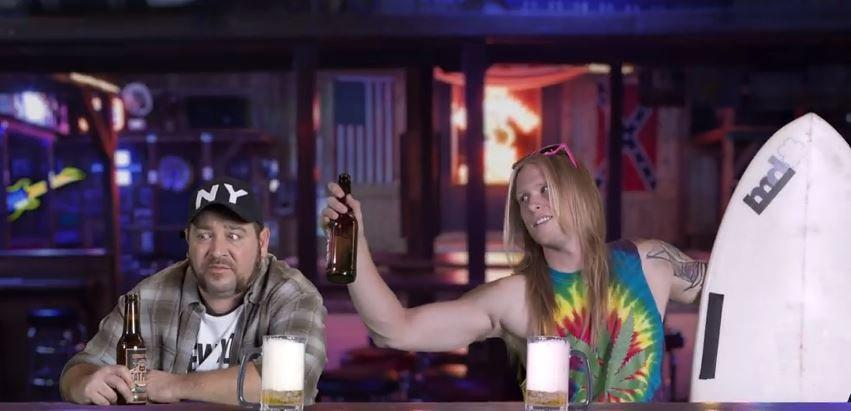Drunk: (189, 215, 251, 288), (517, 170, 567, 244)
